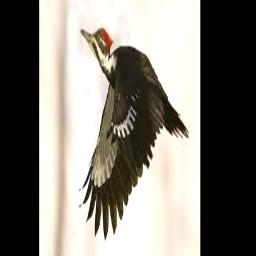Woodpecker: (78, 27, 189, 240)
